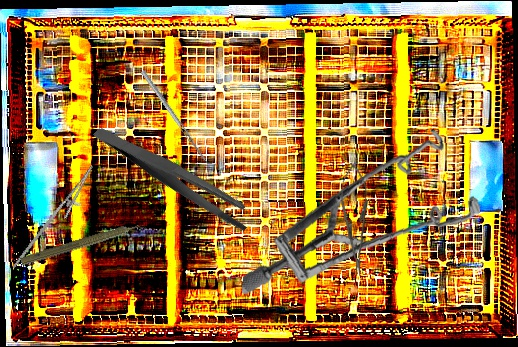Dressing Forceps: (92, 92, 258, 261)
Handpiece: (19, 217, 150, 271)
Needle Holder: (12, 156, 102, 282), (338, 161, 372, 278)
Spatula Surgical: (140, 67, 217, 170)
Speculum: (241, 113, 487, 314)
